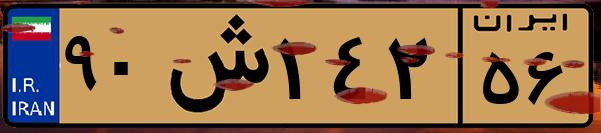0: (110, 28, 158, 98)
1: (270, 28, 330, 110)
2: (385, 28, 445, 110)
4: (330, 28, 385, 110)
5: (475, 38, 525, 113)
6: (525, 38, 570, 115)
9: (57, 26, 110, 100)
ش: (158, 12, 270, 120)
